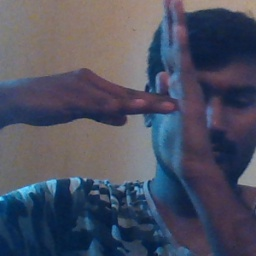Z: (90, 1, 212, 170)
